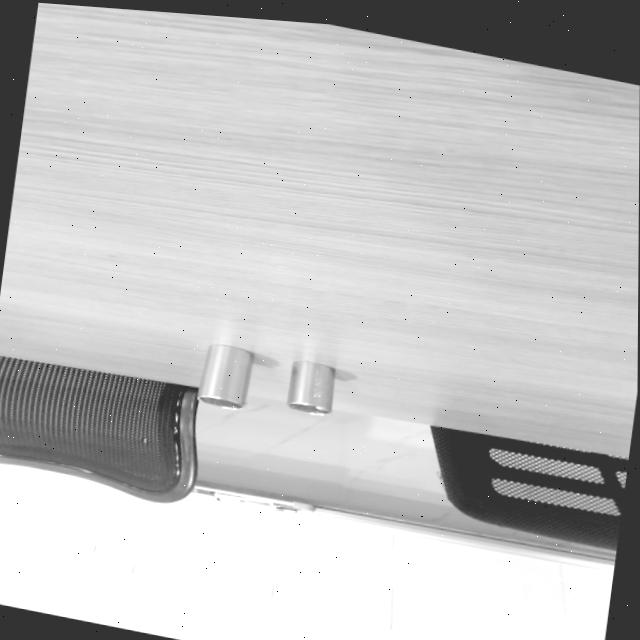Co_Lon: (195, 340, 255, 410)
Co_Nho: (284, 358, 337, 416)
